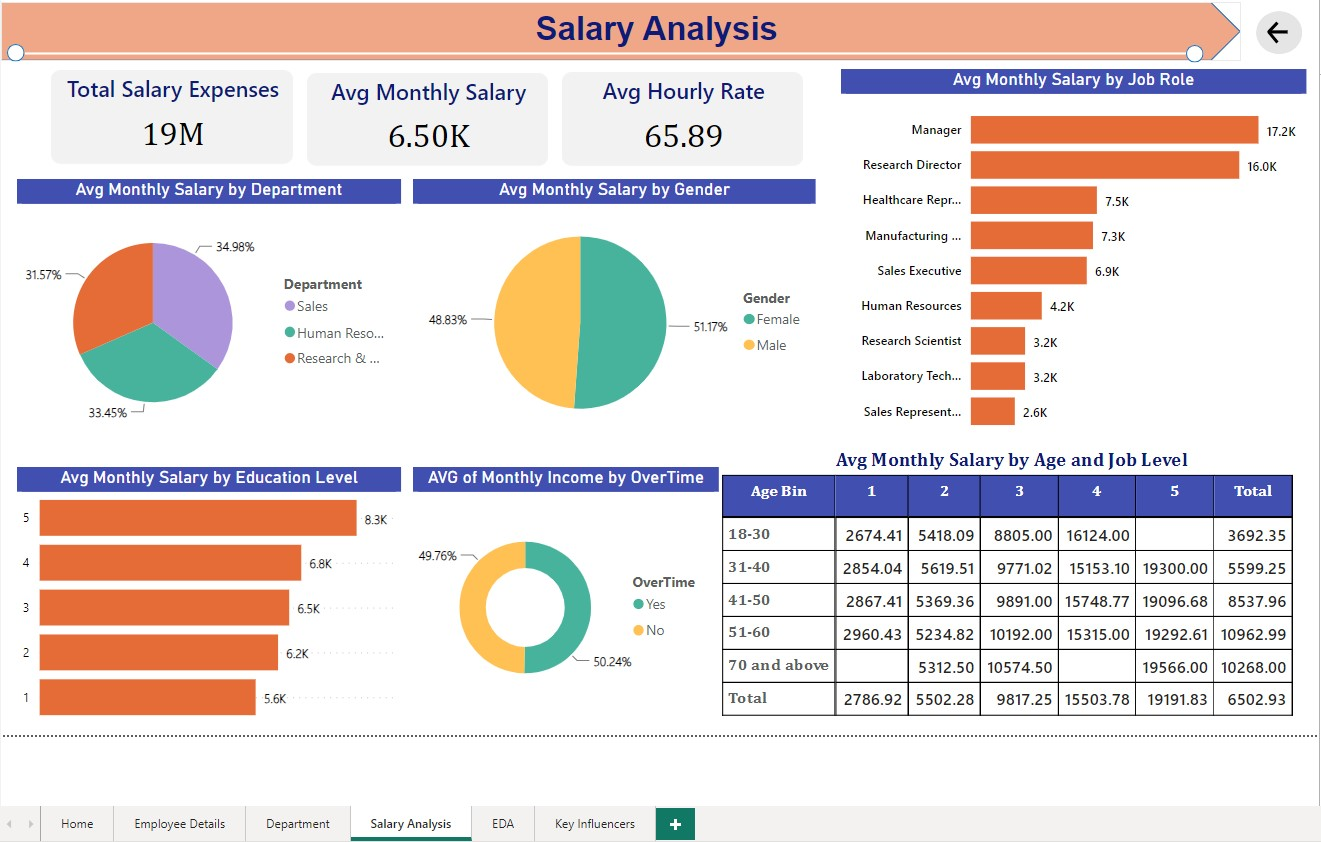

Layout of this report page (visuals, bound fields, positions):
{"tool":"powerbi","page":{"name":"Salary Analysis","canvas":[1280,720],"ordinal":3},"visuals":[{"type":"card","title":"Total Salary Expenses","fields":{"Values":["Sum(Attrition.MonthlyIncome)"]},"box":[47.6,72.8,237,93.2],"z":0},{"type":"card","title":"Avg Hourly Rate","fields":{"Values":["Avg(Attrition.HourlyRate)"]},"box":[543.8,74.3,236,93.2],"z":1000},{"type":"card","title":"Avg Monthly Salary","fields":{"Values":["Avg(Attrition.MonthlyIncome)"]},"box":[296.2,75.8,236,92.3],"z":2000},{"type":"clusteredBarChart","title":"Avg  Monthly Salary by Job Role","fields":{"Category":["Attrition.JobRole"],"Y":["Avg(Attrition.MonthlyIncome)"]},"box":[815.8,72.8,451.6,365.2],"z":3000},{"type":"clusteredBarChart","title":"Avg  Monthly Salary by Education Level","fields":{"Y":["Avg(Attrition.MonthlyIncome)"],"Category":["Attrition.Education"]},"box":[15.5,459.4,372.9,254.4],"z":4000},{"type":"pivotTable","title":"Avg Monthly Salary by Age and Job Level","fields":{"Values":["Avg(Attrition.MonthlyIncome)"],"Rows":["HR_Employee_Attrition_Data.Age Bin"],"Columns":["Attrition.JobLevel"]},"box":[695.4,439.9,572,273.9],"z":5000},{"type":"donutChart","title":"AVG of Monthly Income by OverTime","fields":{"Category":["Attrition.OverTime"],"Y":["Avg(Attrition.MonthlyIncome)"]},"box":[400.1,459.4,297.2,254.4],"z":6000},{"type":"pieChart","title":"Avg Monthly Salary by Department","fields":{"Y":["Avg(Attrition.MonthlyIncome)"],"Category":["Attrition.Department"]},"box":[15.6,179.7,372.9,260.3],"z":7000},{"type":"pieChart","title":"Avg Monthly Salary by Gender","fields":{"Y":["Avg(Attrition.MonthlyIncome)"],"Category":["Attrition.Gender"]},"box":[400.2,179.7,391.4,260.3],"z":8000},{"type":"shape","box":[0,7.8,1204.2,57.3],"z":9000},{"type":"shape","box":[23.3,41.8,1129.4,32.1],"z":10000},{"type":"textbox","box":[335.3,10.7,603.6,52.5],"z":11000},{"type":"shape","box":[5.8,48.6,17.5,16.5],"z":12000},{"type":"shape","box":[1150.7,49.6,17.5,16.5],"z":13000},{"type":"actionButton","box":[1218.8,16.5,44.7,41.8],"z":14000}]}

Visuals, with their boxes on the page's 1280x720 design canvas (x1, y1, x2, y2). These are canvas units, not pixel positions in the 1321x842 screenshot, which may show the page scaled, cropped or inside an application window:
"Total Salary Expenses" card: box(48, 73, 285, 166)
"Avg Hourly Rate" card: box(544, 74, 780, 168)
"Avg Monthly Salary" card: box(296, 76, 532, 168)
"Avg  Monthly Salary by Job Role" clusteredBarChart: box(816, 73, 1267, 438)
"Avg  Monthly Salary by Education Level" clusteredBarChart: box(16, 459, 388, 714)
"Avg Monthly Salary by Age and Job Level" pivotTable: box(695, 440, 1267, 714)
"AVG of Monthly Income by OverTime" donutChart: box(400, 459, 697, 714)
"Avg Monthly Salary by Department" pieChart: box(16, 180, 388, 440)
"Avg Monthly Salary by Gender" pieChart: box(400, 180, 792, 440)
shape: box(0, 8, 1204, 65)
shape: box(23, 42, 1153, 74)
textbox: box(335, 11, 939, 63)
shape: box(6, 49, 23, 65)
shape: box(1151, 50, 1168, 66)
actionButton: box(1219, 16, 1264, 58)
